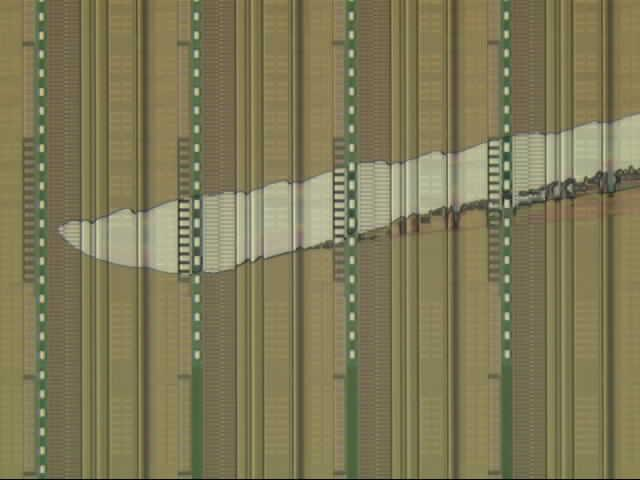COATING BAD: (54, 108, 640, 281)
